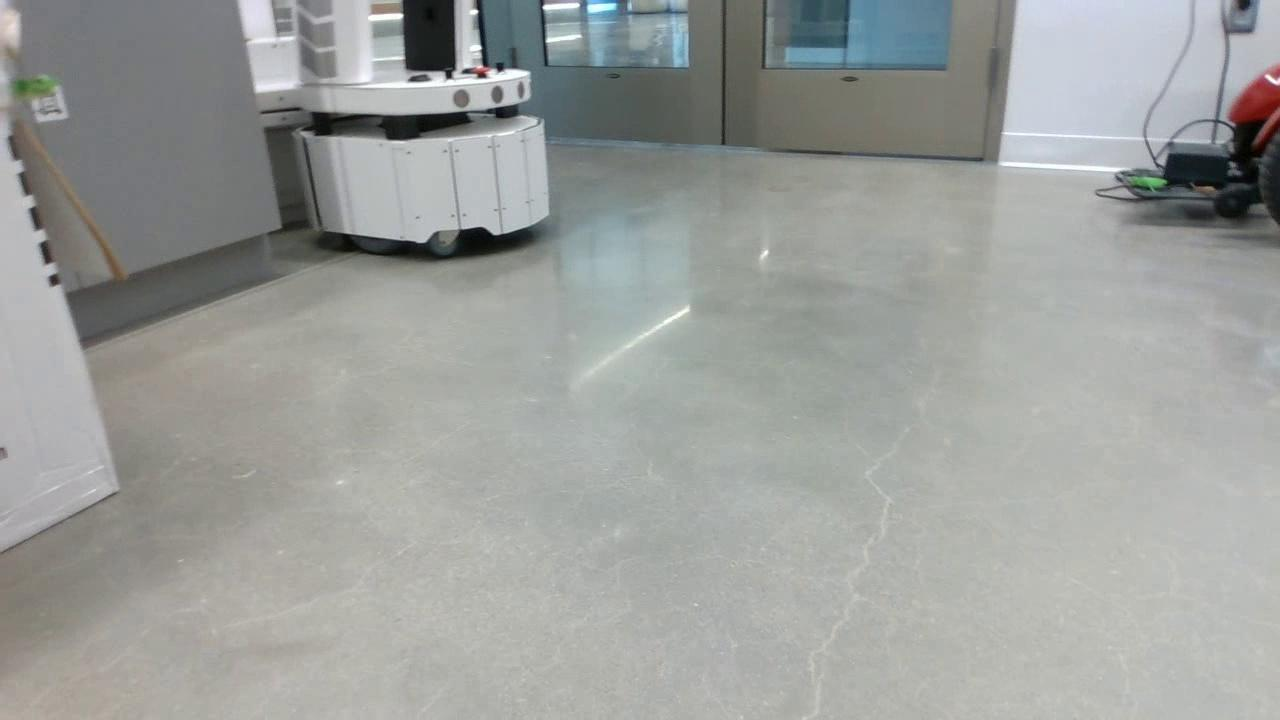grasshopper: (1124, 171, 1167, 194)
